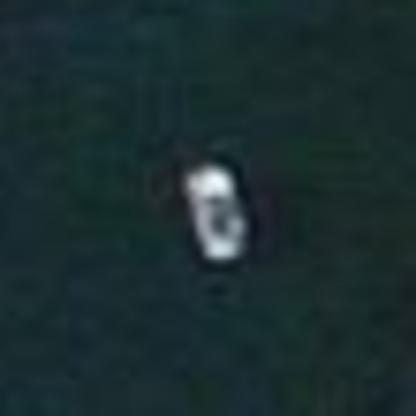ship: (158, 144, 273, 279)
